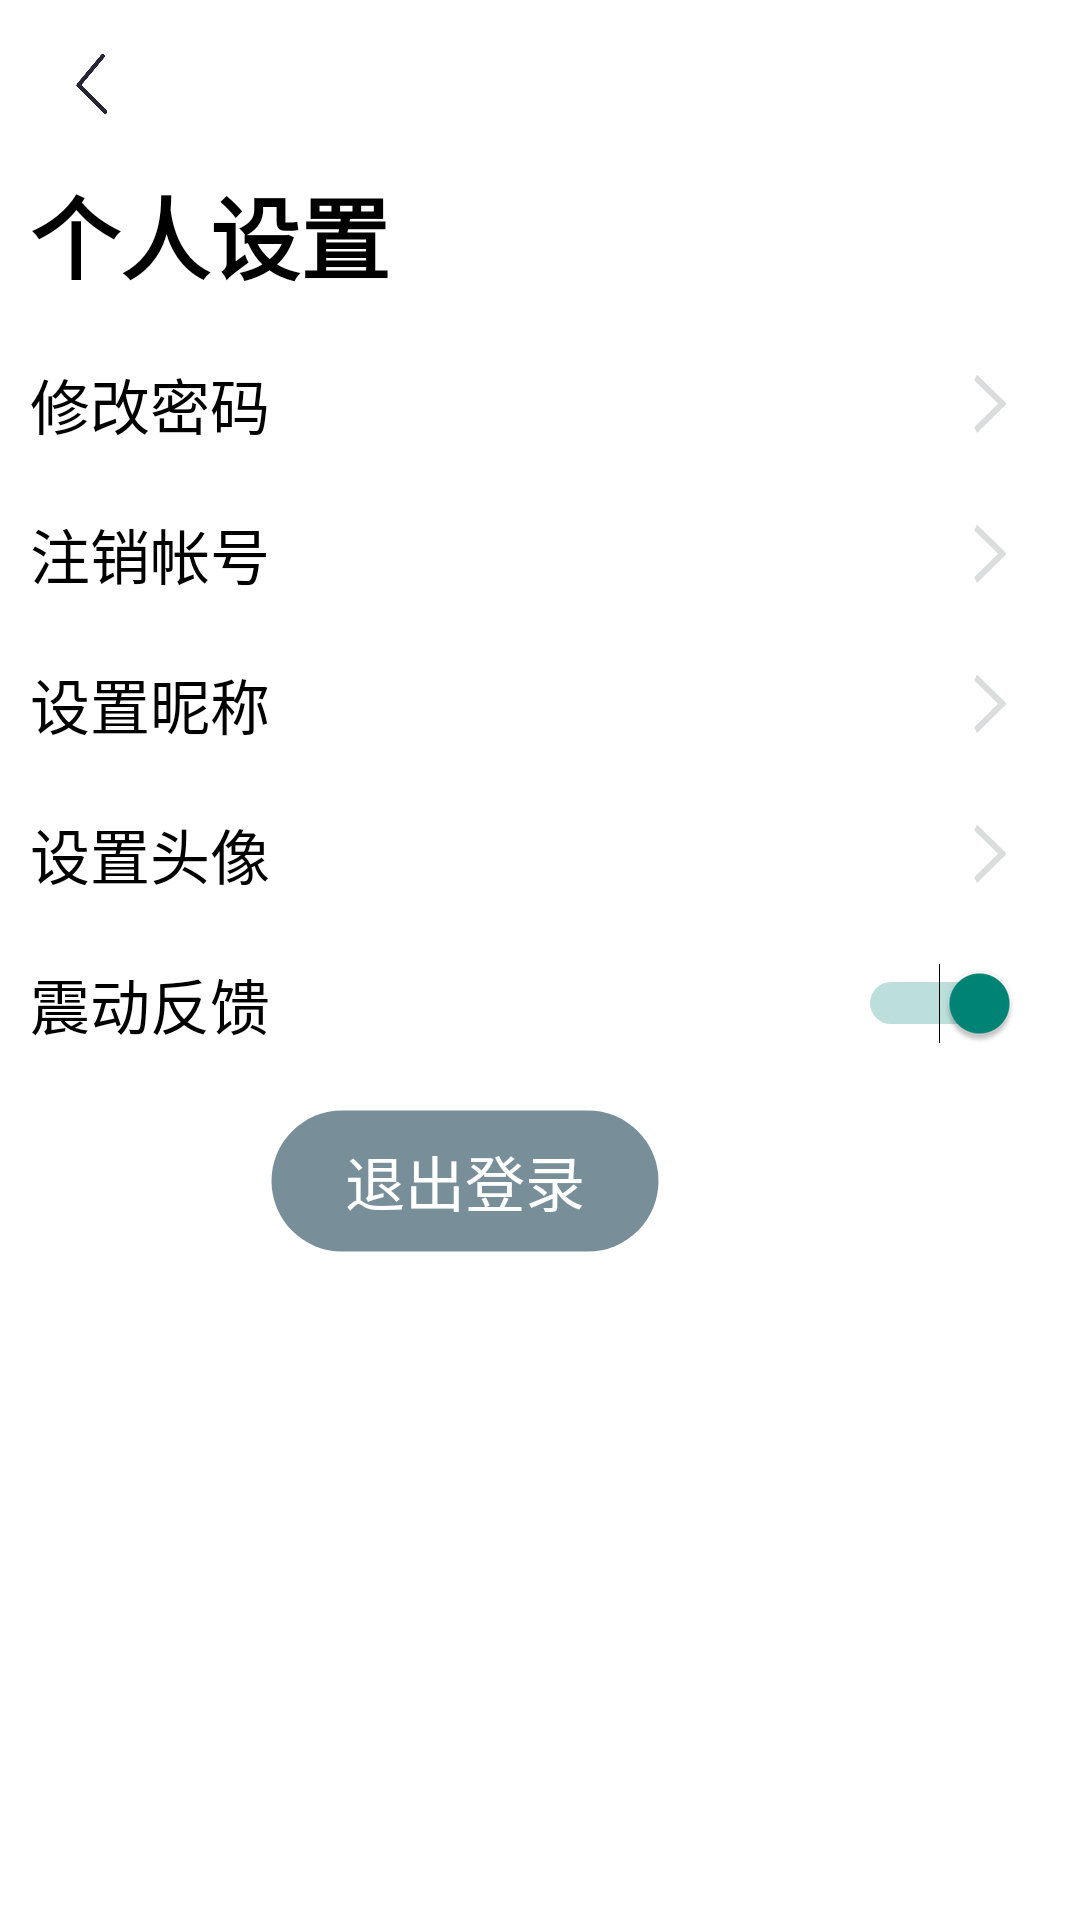

Screen size 1080px x 1920px. Icon name, then its center in pixels as (x=x, y=y):
back: (x=91, y=84)
right: (x=990, y=403), (x=990, y=553), (x=990, y=703), (x=990, y=853)
